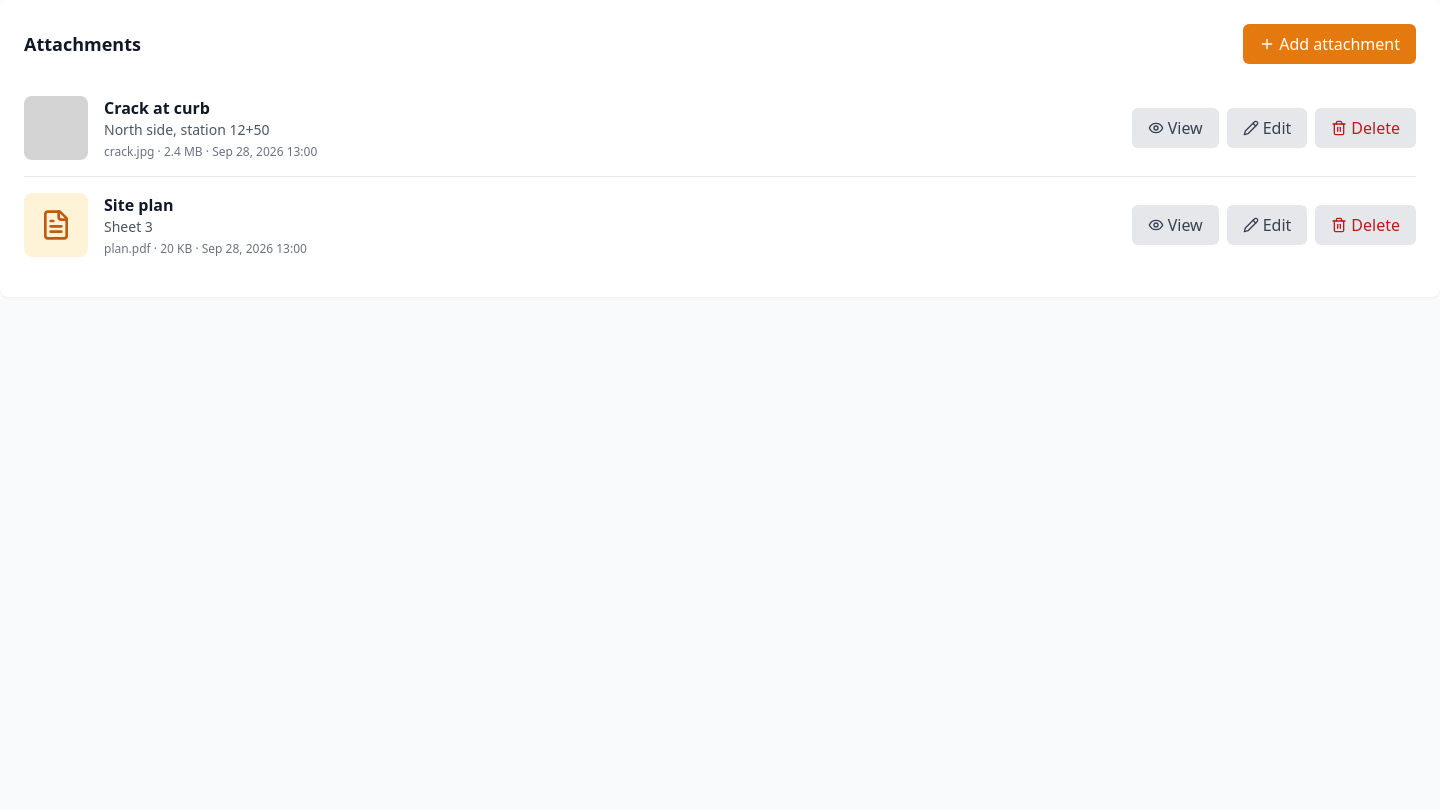
Test: edit, switching attachments › reopening Edit on another attachment shows that attachment's values, not the previous one's
Expected: the text "Crack at curb" is shown, [104,97,210,119]
Note: Open A and type without saving, then cancel
Click the button "Edit" in the row of "Crack at curb" at (1267, 128), box [1227,108,1307,148]
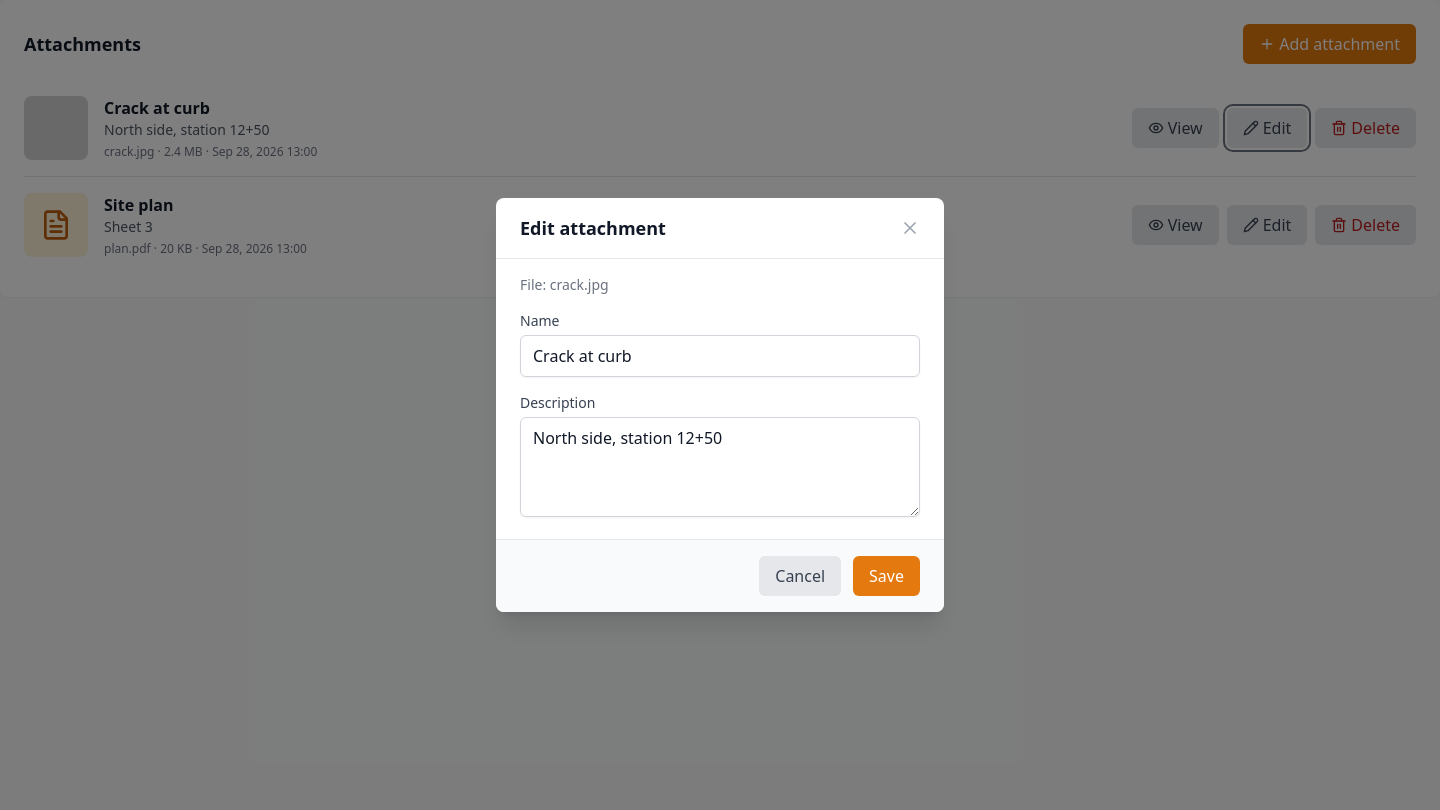
Type " (unsaved)" into the field labelled "Name" at (720, 356), box [520,335,920,377]
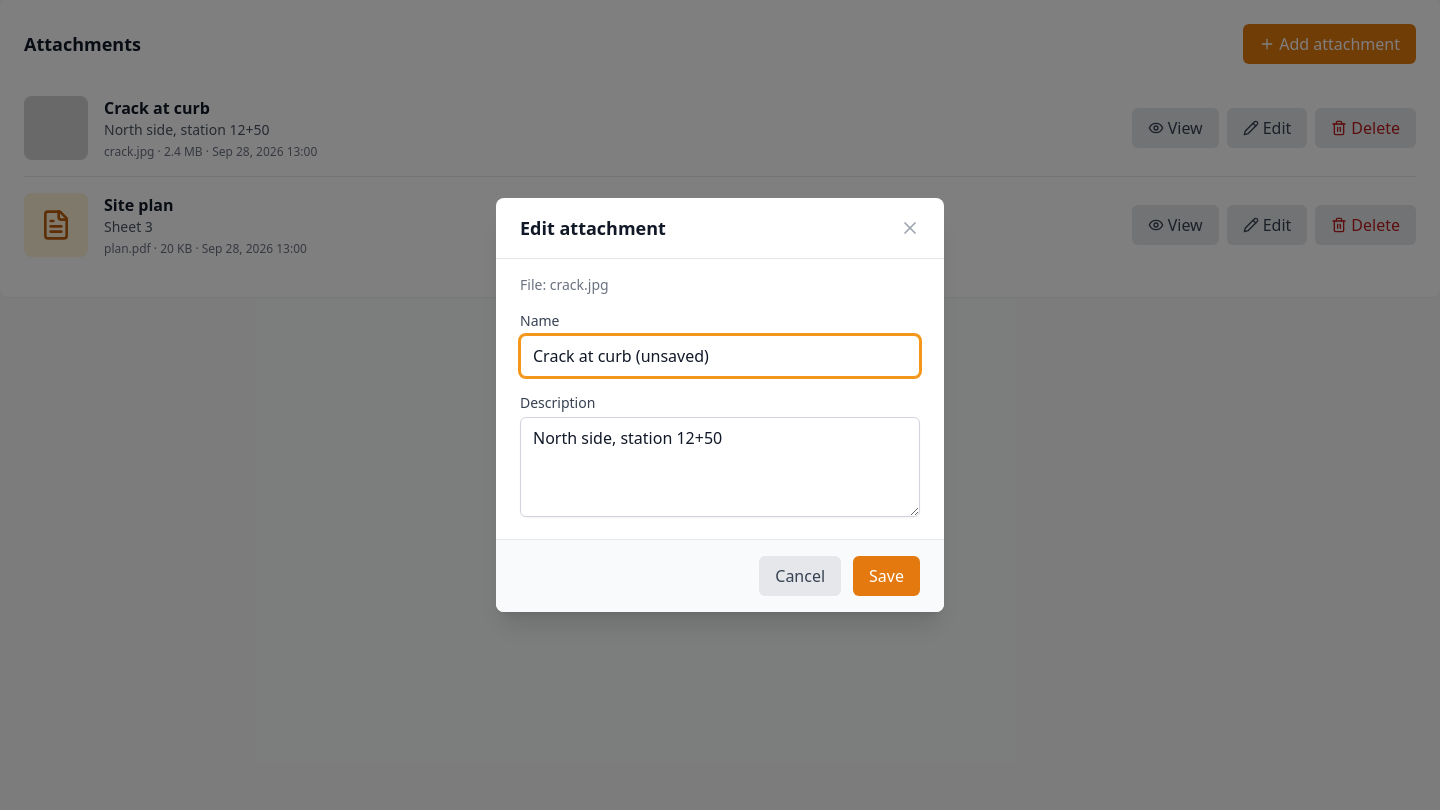
Click the button "Cancel" at (800, 576), box [759,556,841,596]
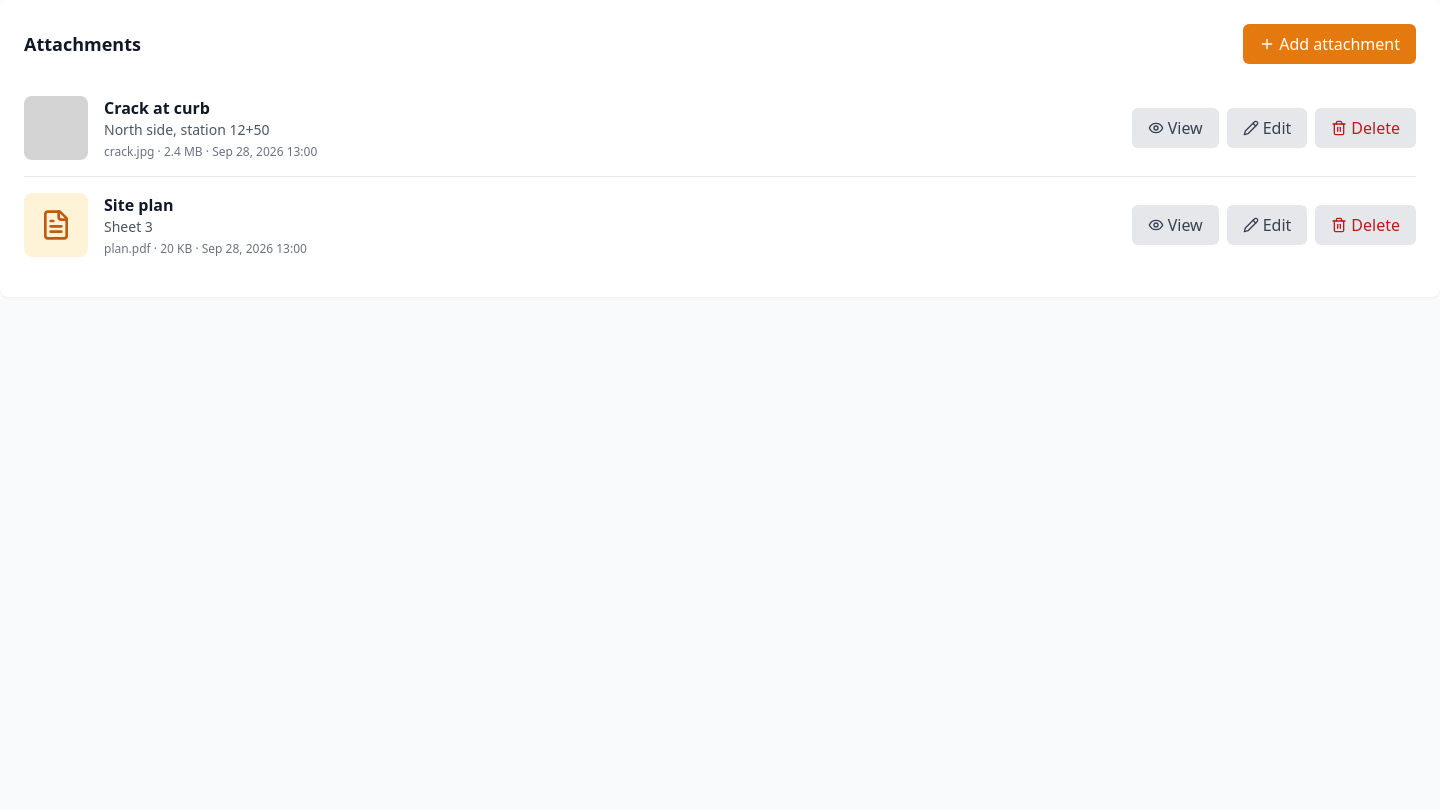
Note: Open B: its own values, nothing carried over from A
Click the button "Edit" in the row of "Site plan" at (1267, 225), box [1227,205,1307,245]
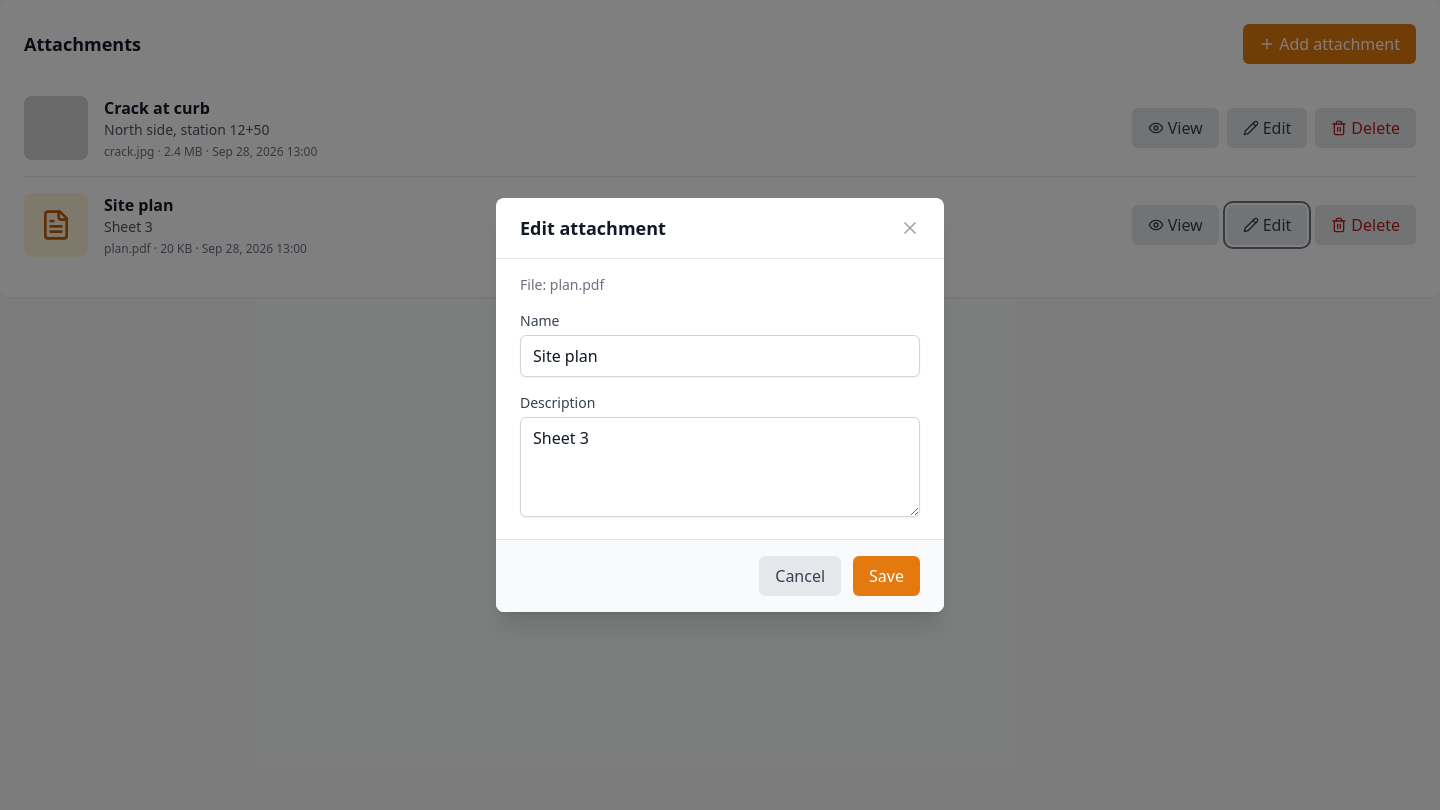
Expected: the field labelled "Name" holds "Site plan", [520,335,920,377]
Expected: the text box labelled "Description" holds "Sheet 3", [520,417,920,517]
Note: Saving B updates B only
Click the button "Save" at (887, 576), box [853,556,920,596]
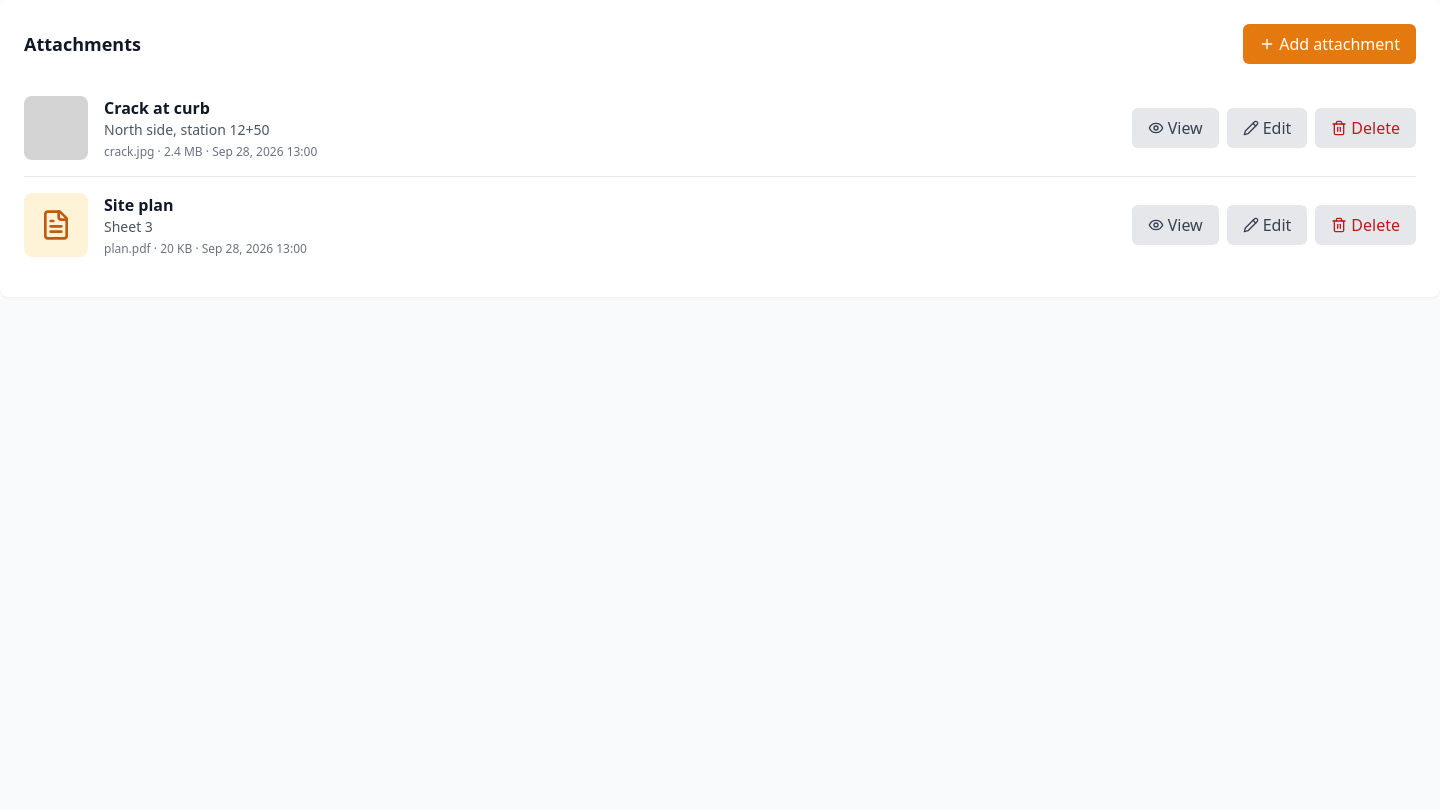
Expected: the text "Crack at curb" is shown, [104,97,210,119]
Expected: the dialog is gone
Note: Reopening A after that shows A's saved values, not the abandoned typing
Click the button "Edit" in the row of "Crack at curb" at (1267, 128), box [1227,108,1307,148]
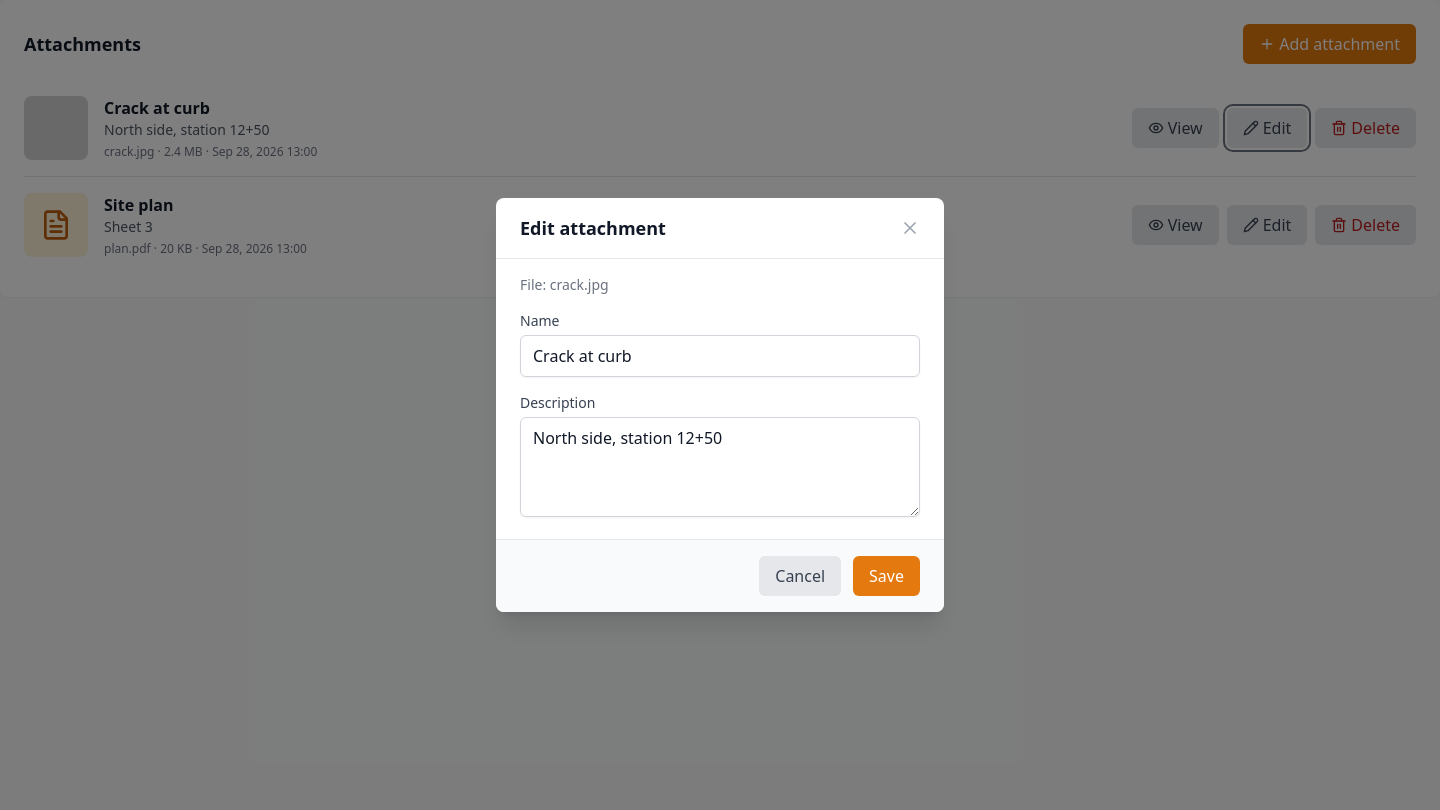
Expected: the field labelled "Name" holds "Crack at curb", [520,335,920,377]
